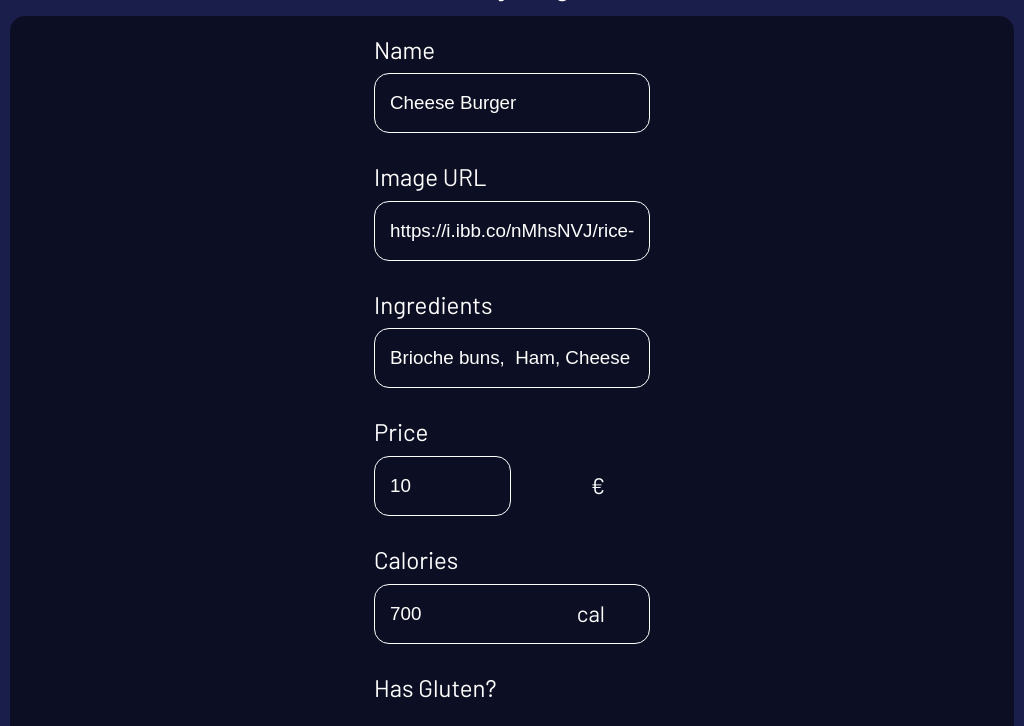
Scenario: Given the route /burger/modify/:id › When the user edits a Cheese Burger to be named 'ClassBurger' › Then the burger is visible with the name 'ClassBurger'
This screenshot has width=1024, height=726.
Replace the text in the field labelled "Name" with "ClassBurger" at (512, 103), box [374,73,650,133]
(page scrolled)
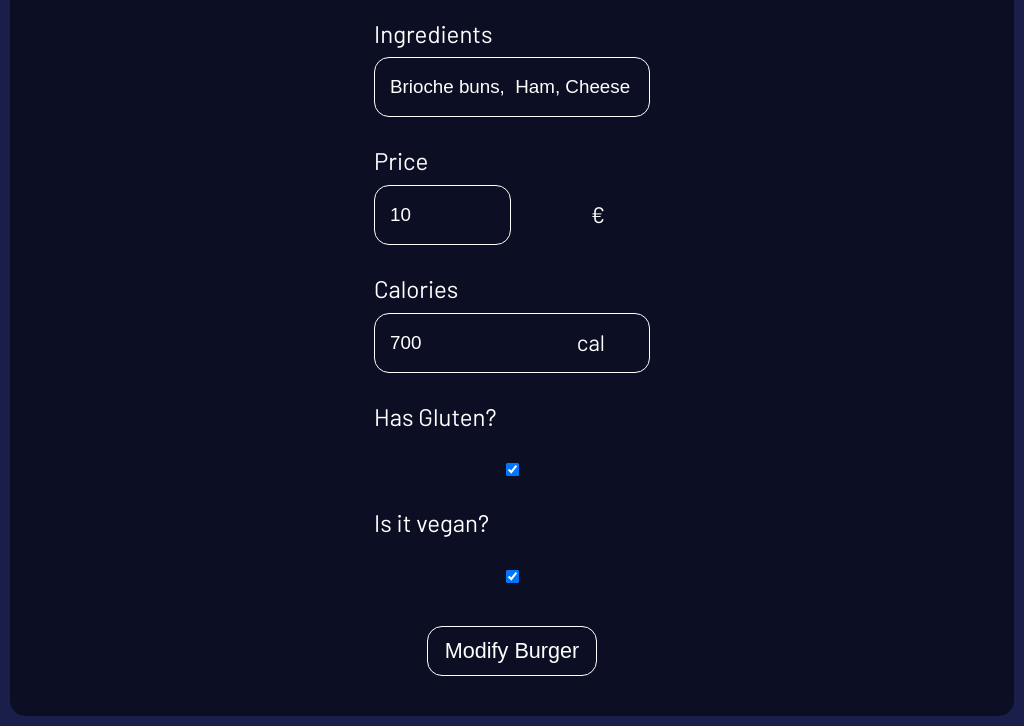
Click the button "Modify Burger".
click(512, 651)  # box [427,626,597,676]
(page scrolled)
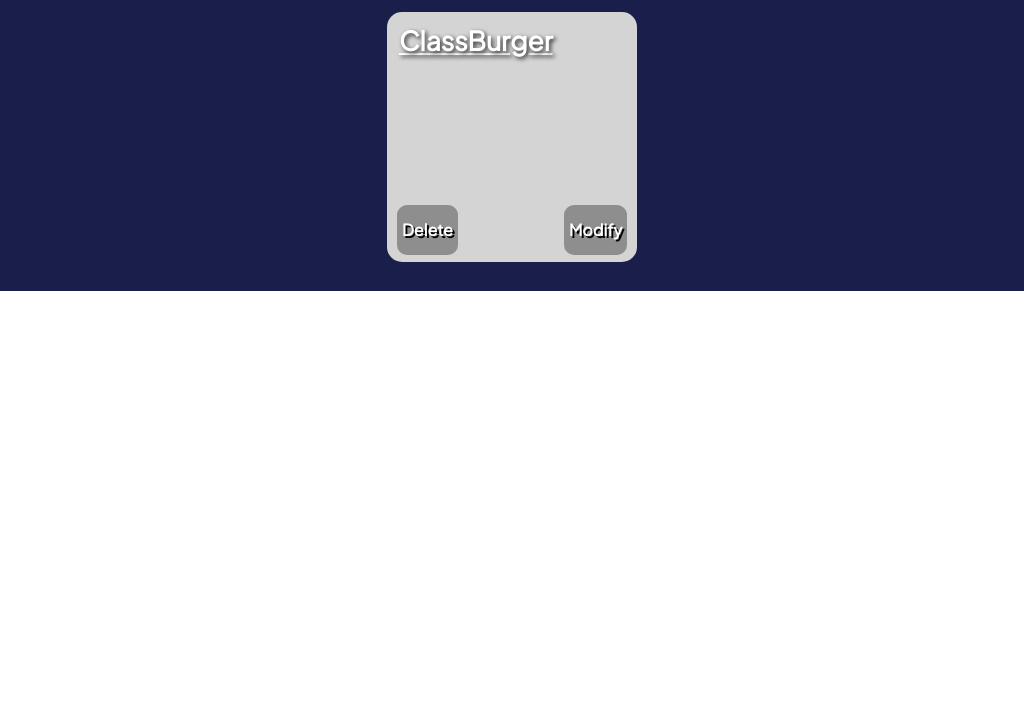
Now the heading "ClassBurger" is shown, box [399,24,553,57]
